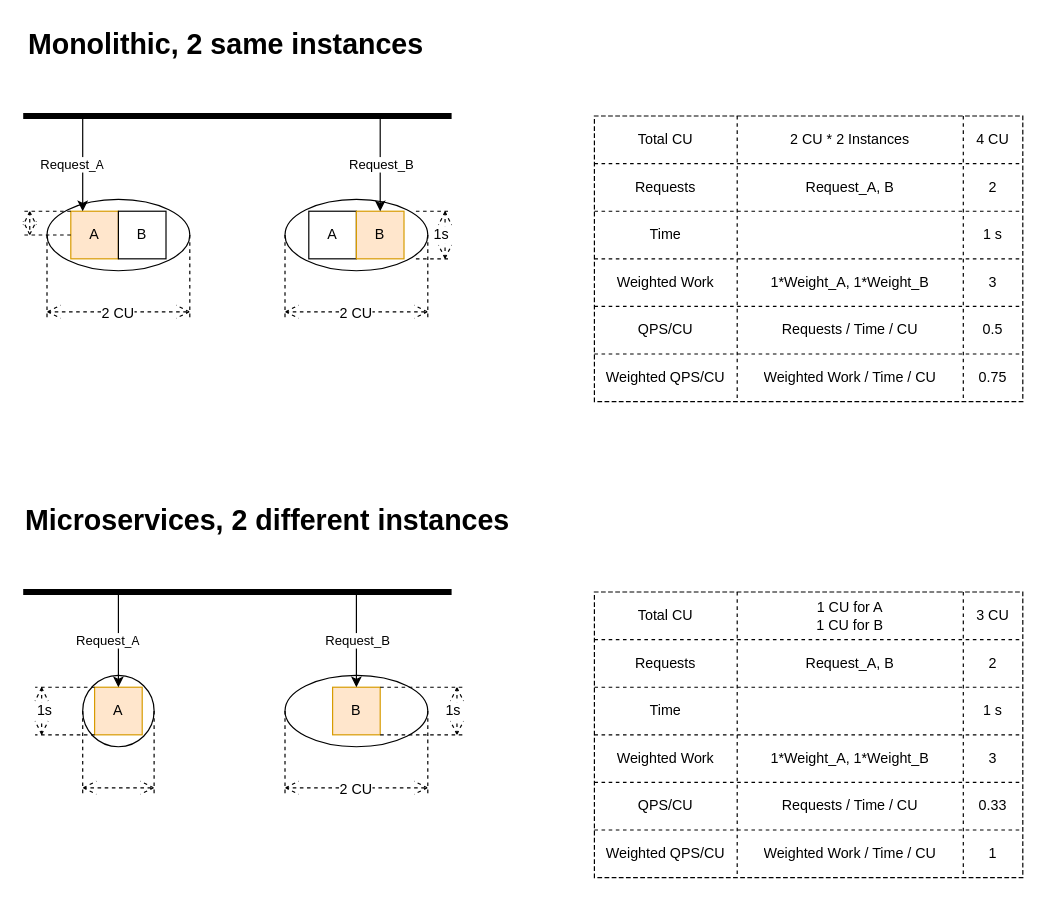
This 1044x898 diagram has some shape labels left out. The box of each missing label's shape, as (x1, y1, x2, y2) in pixels:
0.5 s: (22, 210, 71, 235)
1 CU: (82, 710, 154, 794)
